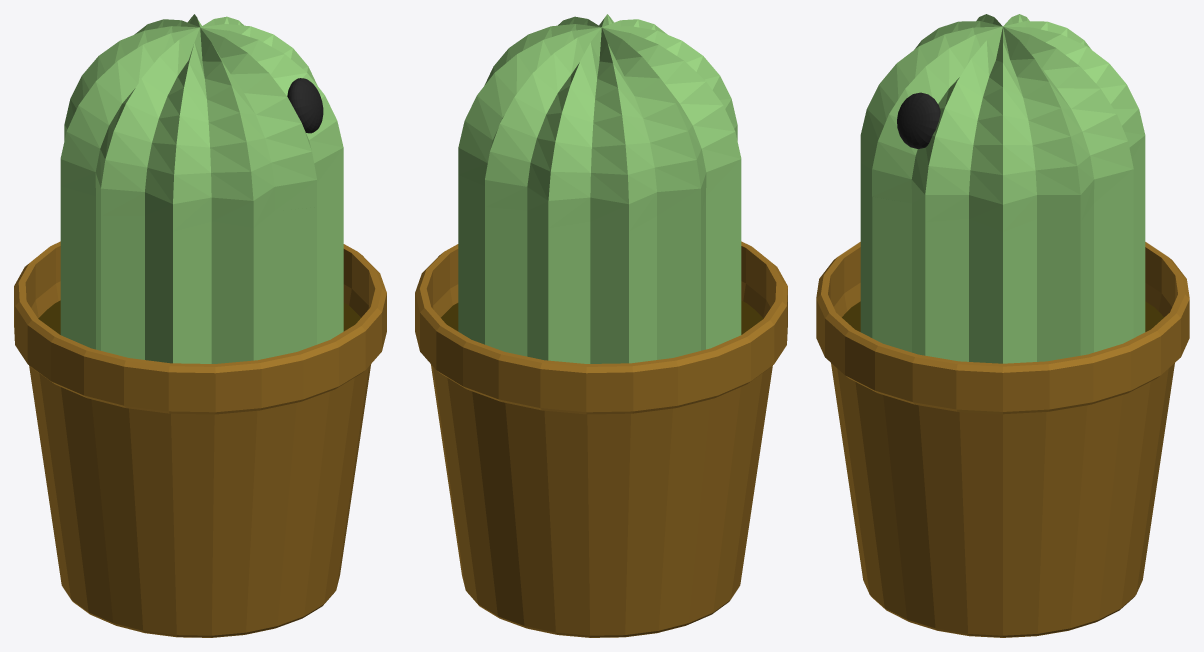
Rendered from Tall_Cactus_2.fbx.
The picture shows the model from 3 angles, left to right: view 1: azimuth 30°, elevation 25°; view 2: azimuth 150°, elevation 25°; view 3: azimuth 270°, elevation 25°; orthographic projection.
Parts seen in each view (by area): view 1: Ceramic_Pot2; view 2: Ceramic_Pot2; view 3: Ceramic_Pot2.
Boxes of the visible parts, x1=… form: Ceramic_Pot2: x1=14, y1=14, x2=386, y2=637; Ceramic_Pot2: x1=415, y1=14, x2=787, y2=637; Ceramic_Pot2: x1=816, y1=14, x2=1189, y2=637.
Size of the model in its own units: 3.99 by 6.55 by 4.
